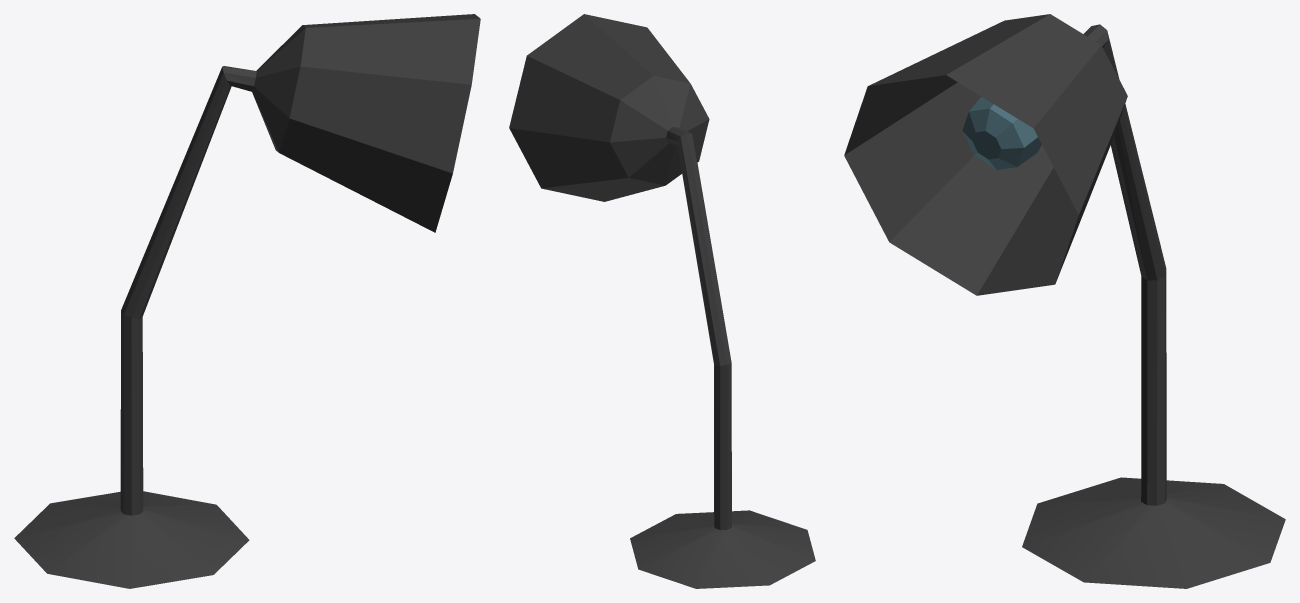
Rendered from ThaLamp.FBX.
3 renders of one model, left to right at view 1: azimuth 30°, elevation 25°; view 2: azimuth 150°, elevation 25°; view 3: azimuth 270°, elevation 25°, orthographic. The views are drawn at different scales.
Visible parts, largest first — view 1: Lampara; view 2: Lampara; view 3: Lampara.
Part boxes in pixels (x1,y1,x2,y2): Lampara: (14,14,480,588); Lampara: (509,14,815,588); Lampara: (844,14,1285,588).
Bounding box in the file's own units: 0.8553 × 1.09 × 0.7232.
